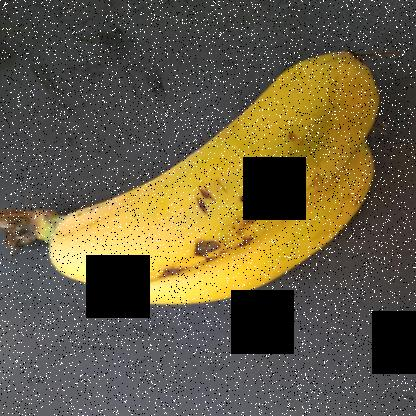ripe: (58, 30, 398, 278)
